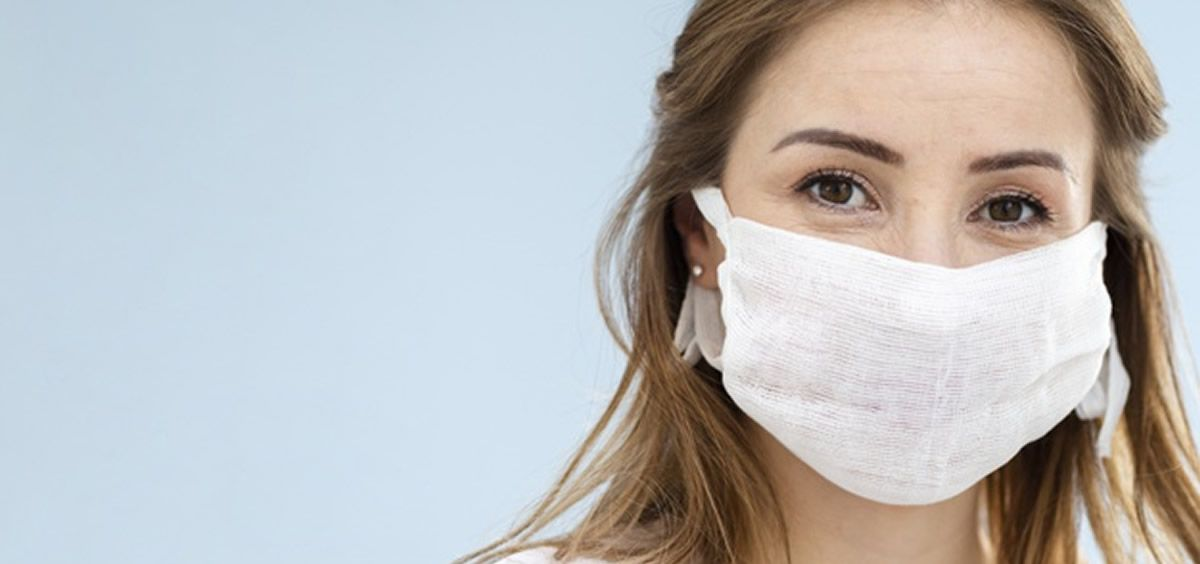with_mask: (645, 6, 1159, 526)
